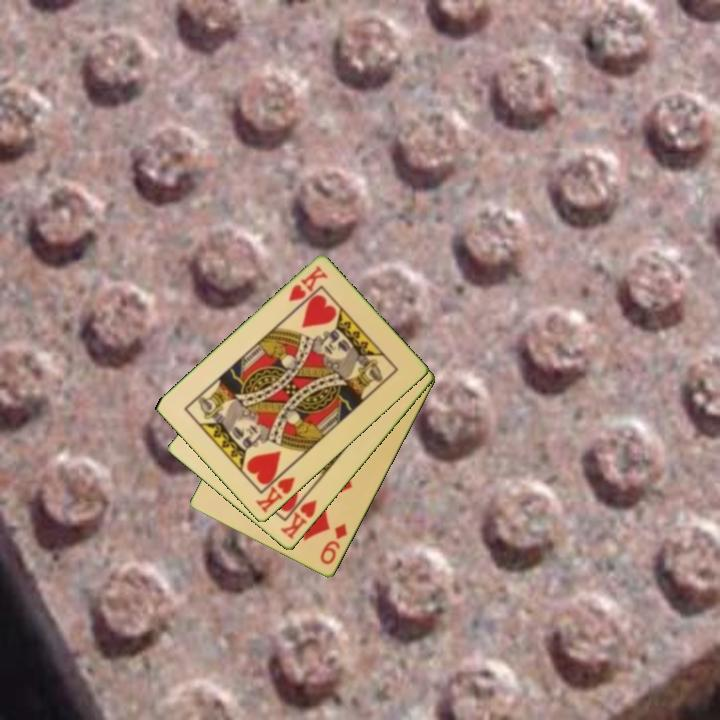9d: (317, 520, 350, 568)
Kh: (252, 465, 298, 516), (277, 489, 320, 543), (285, 262, 331, 305)
